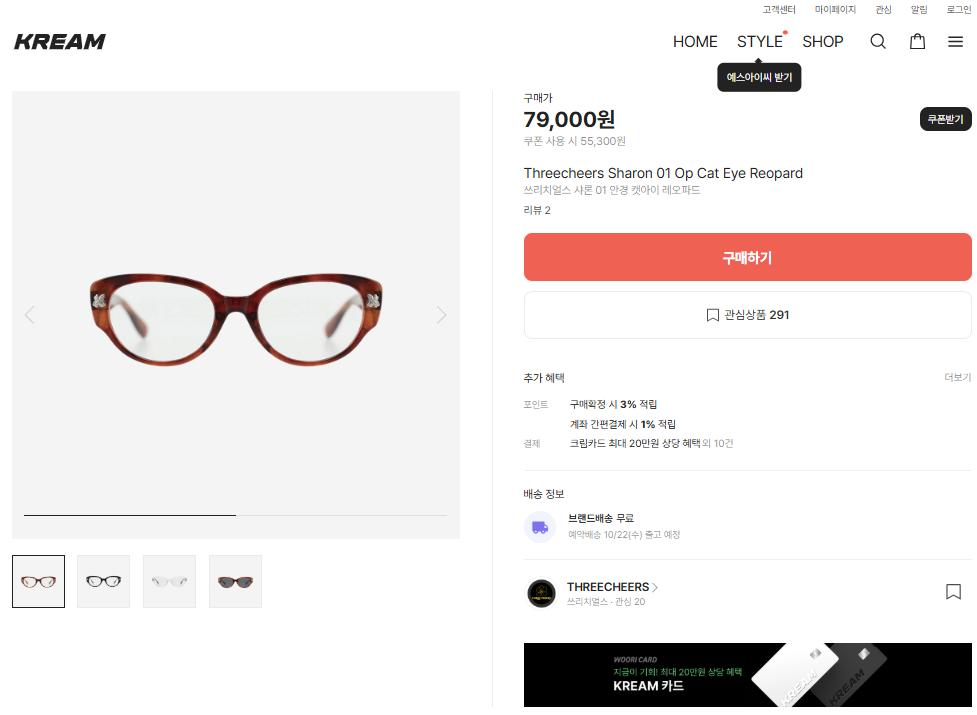button: (522, 230, 975, 281), (524, 290, 977, 338), (565, 577, 673, 608), (917, 103, 976, 135), (734, 26, 790, 53), (798, 26, 850, 53), (669, 28, 720, 52), (939, 579, 977, 610), (863, 28, 896, 57), (903, 27, 935, 55), (811, 2, 861, 19), (943, 26, 972, 55), (759, 2, 800, 19), (943, 2, 977, 20), (939, 368, 977, 384), (866, 1, 898, 18), (908, 1, 937, 18)
popup: (524, 642, 973, 709), (716, 62, 803, 93)
